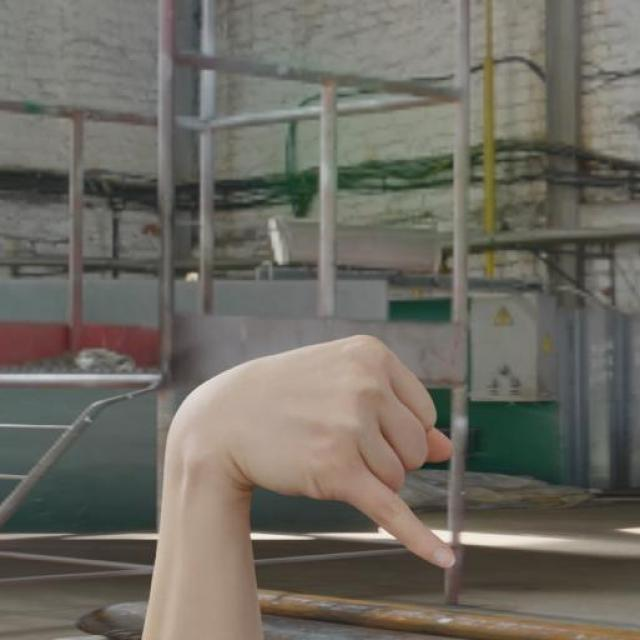J: (156, 331, 458, 570)
